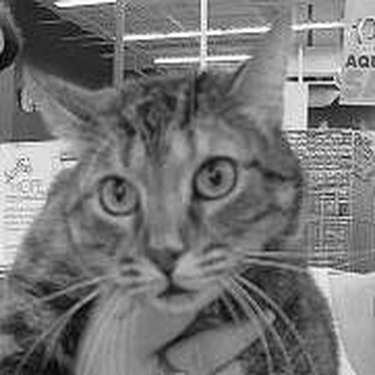cat: (18, 11, 344, 369)
